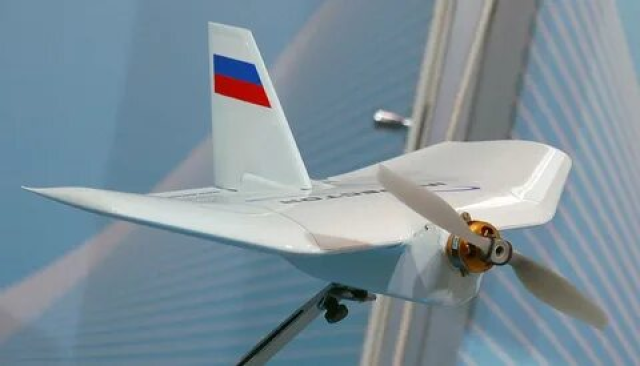military drone: (20, 20, 609, 330)
